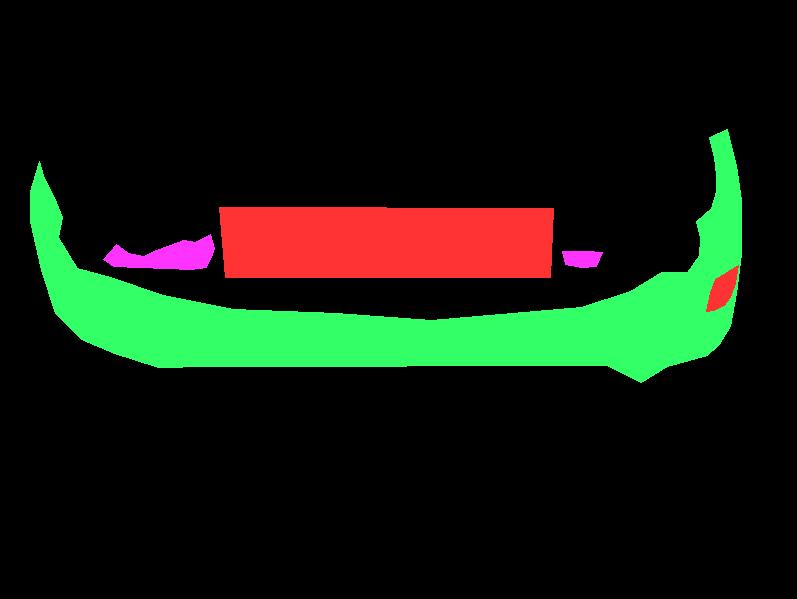Broken part: (30, 129, 741, 382)
Dent: (103, 234, 214, 269), (562, 251, 602, 267)
Missing part: (219, 207, 553, 277), (706, 265, 738, 311)
